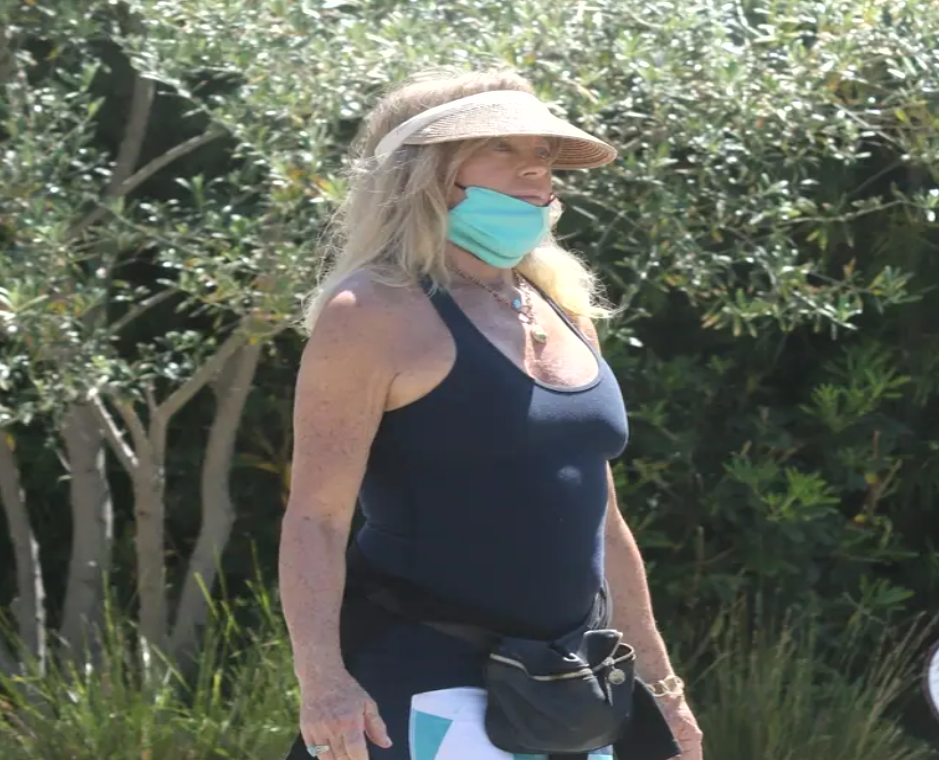mask_weared_incorrect: (360, 72, 604, 275)
